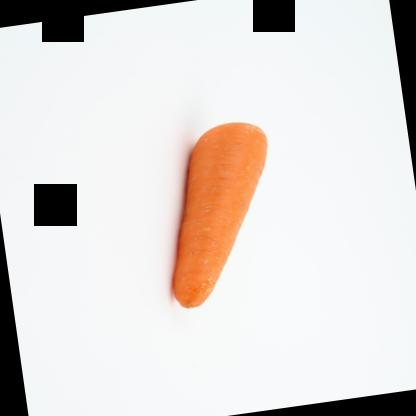carrot: (149, 118, 292, 310)
